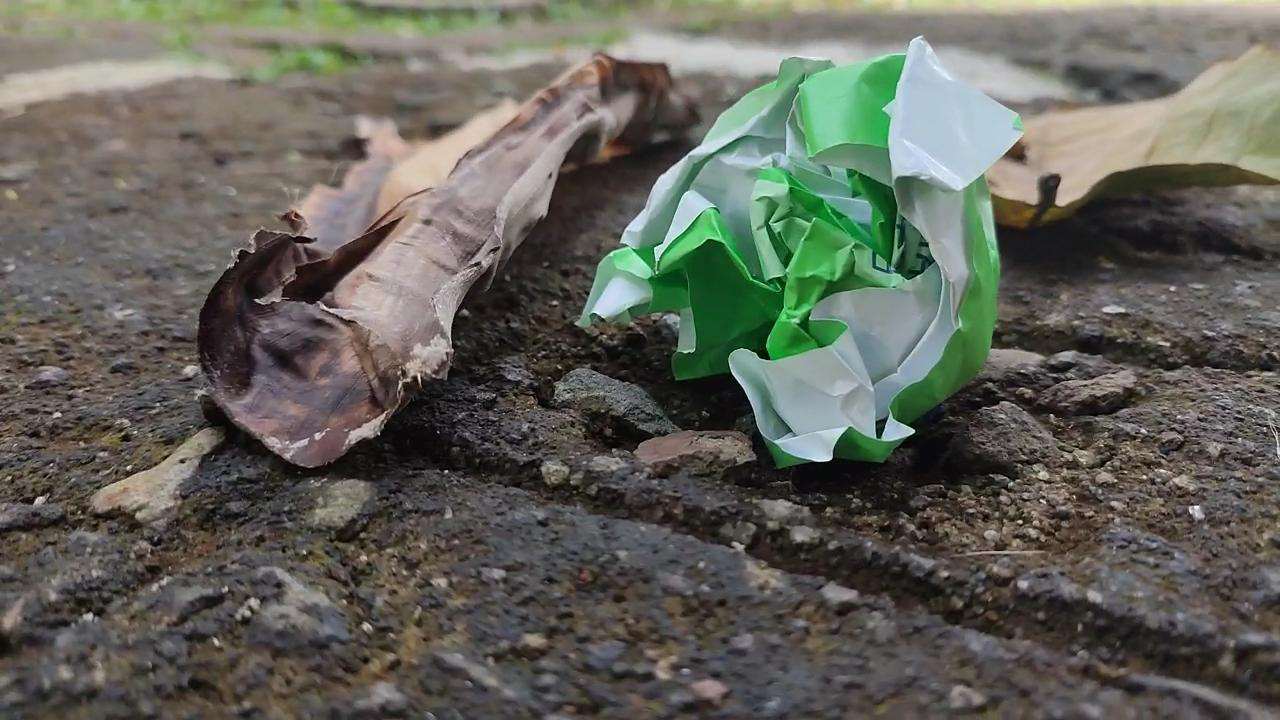Paper: (565, 25, 1022, 484)
